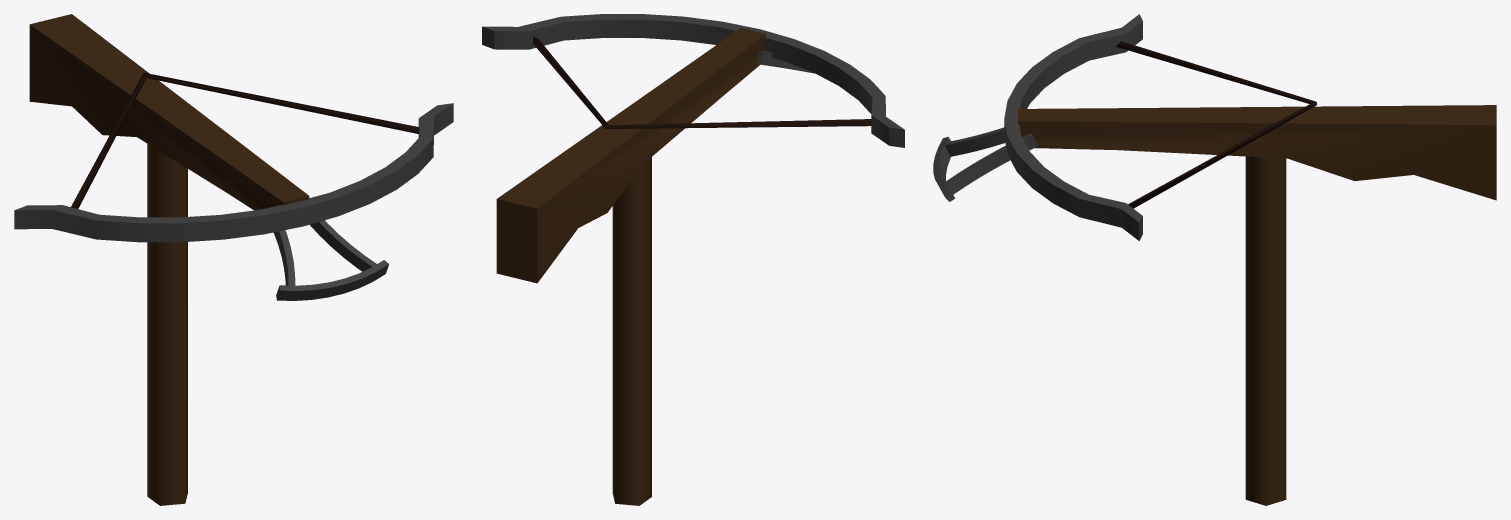
The model's file is crossbow.FBX.
3 views of the same model, side by side, from view 1: azimuth 30°, elevation 25°; view 2: azimuth 150°, elevation 25°; view 3: azimuth 270°, elevation 25° (orthographic). The views are drawn at different scales.
Parts seen in each view (by area): view 1: crossbow, pole; view 2: crossbow, pole; view 3: crossbow, pole.
Boxes of the visible parts, bbox=[...] form: crossbow: bbox=[14, 14, 453, 300]; pole: bbox=[147, 144, 187, 505]; crossbow: bbox=[482, 14, 904, 283]; pole: bbox=[612, 157, 651, 505]; crossbow: bbox=[933, 14, 1496, 240]; pole: bbox=[1245, 156, 1286, 505].
Bounding box in the file's own units: 72.47 × 63.98 × 82.63.
